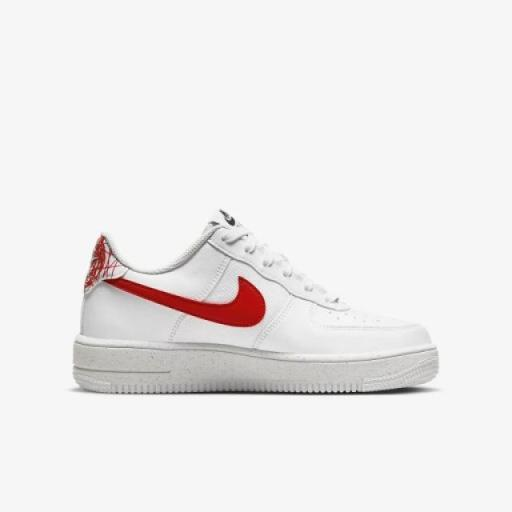Nike: (95, 271, 268, 335)
